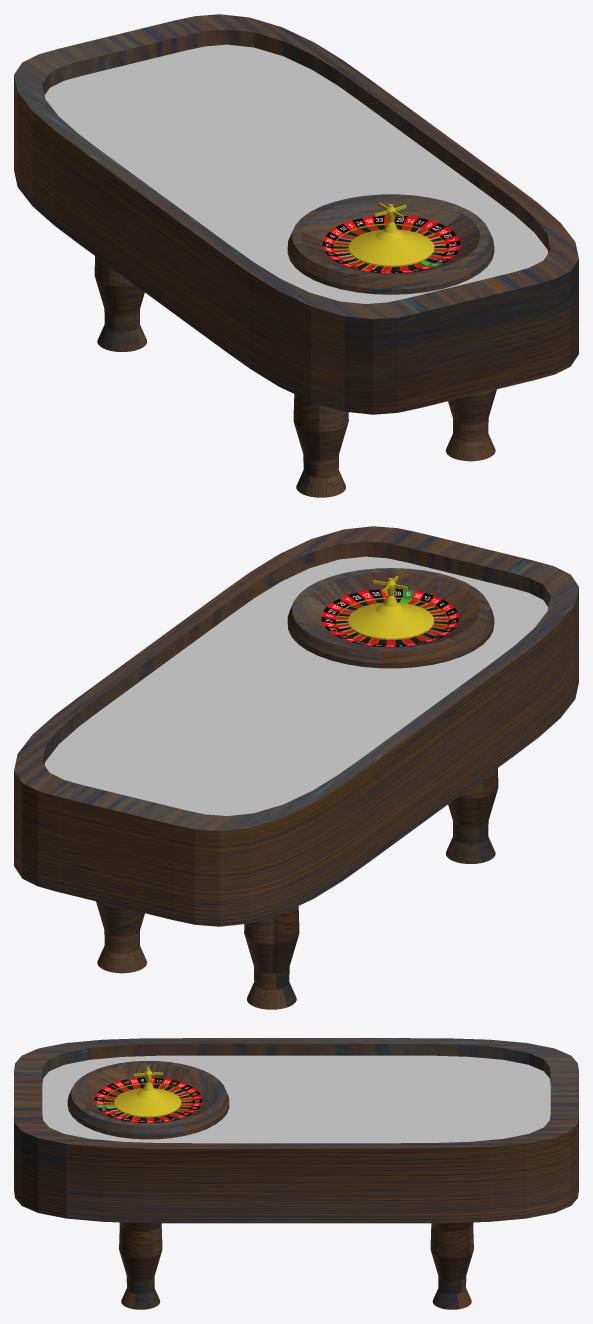
The model's file is RouletteTable.fbx.
3 renders of one model, top to bottom at view 1: azimuth 30°, elevation 25°; view 2: azimuth 150°, elevation 25°; view 3: azimuth 270°, elevation 25°, orthographic. The views are drawn at different scales.
Visible parts, largest first — view 1: Table, Wheel, Legs; view 2: Table, Wheel, Legs; view 3: Table, Wheel, Legs.
Part boxes in pixels (box(x1,y1,x2,y2)): Table: box(14, 14, 578, 414); Wheel: box(287, 194, 494, 294); Legs: box(94, 256, 496, 497); Table: box(14, 526, 578, 926); Wheel: box(287, 568, 494, 668); Legs: box(96, 768, 498, 1009); Table: box(14, 1038, 578, 1223); Wheel: box(67, 1061, 229, 1139); Legs: box(119, 1222, 473, 1309).
Size of the model in its own units: 400 by 344 by 864.
